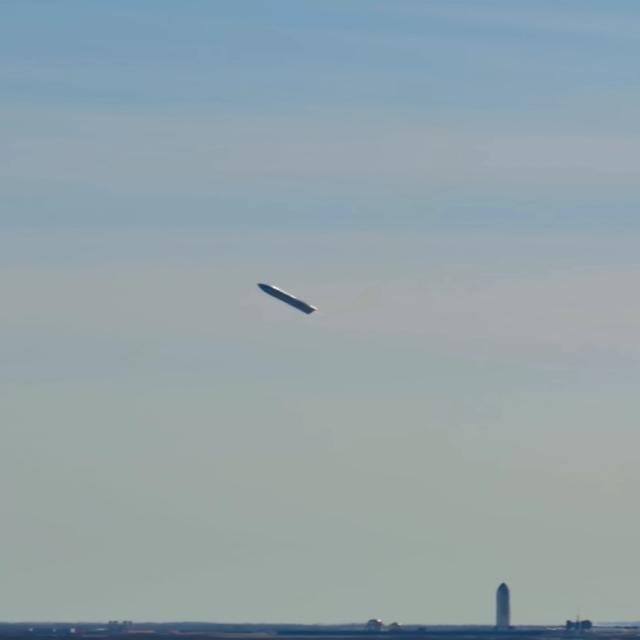missile: (256, 282, 319, 315)
